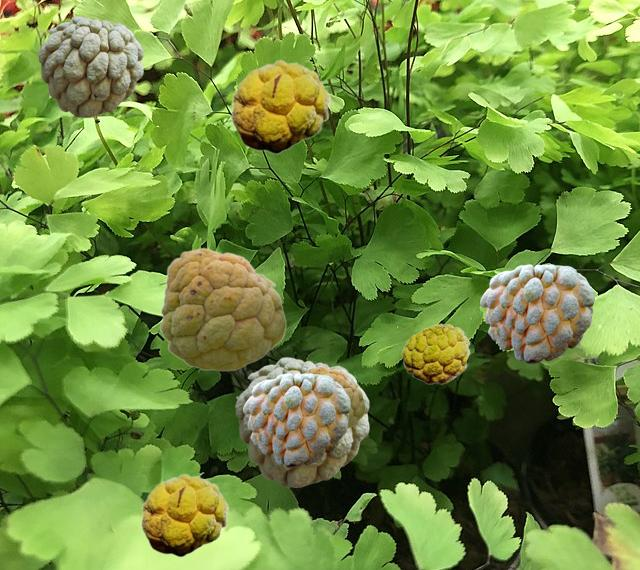atis: (235, 357, 368, 486), (159, 247, 285, 370), (480, 264, 593, 362), (38, 16, 142, 116), (243, 373, 349, 466), (230, 59, 330, 153), (140, 473, 228, 556), (401, 323, 469, 383), (304, 366, 364, 429)
